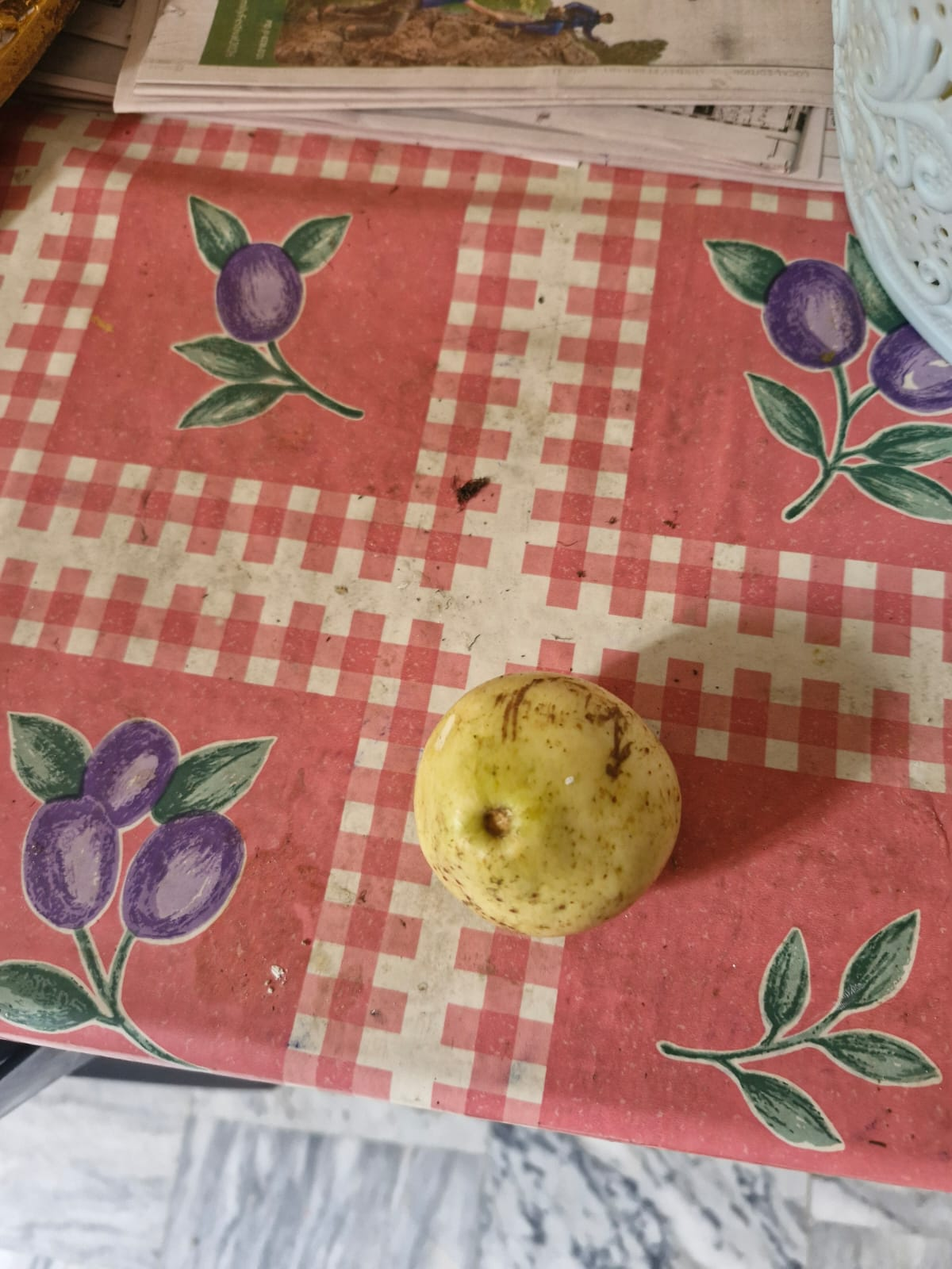guava: (87, 137, 794, 1269)
